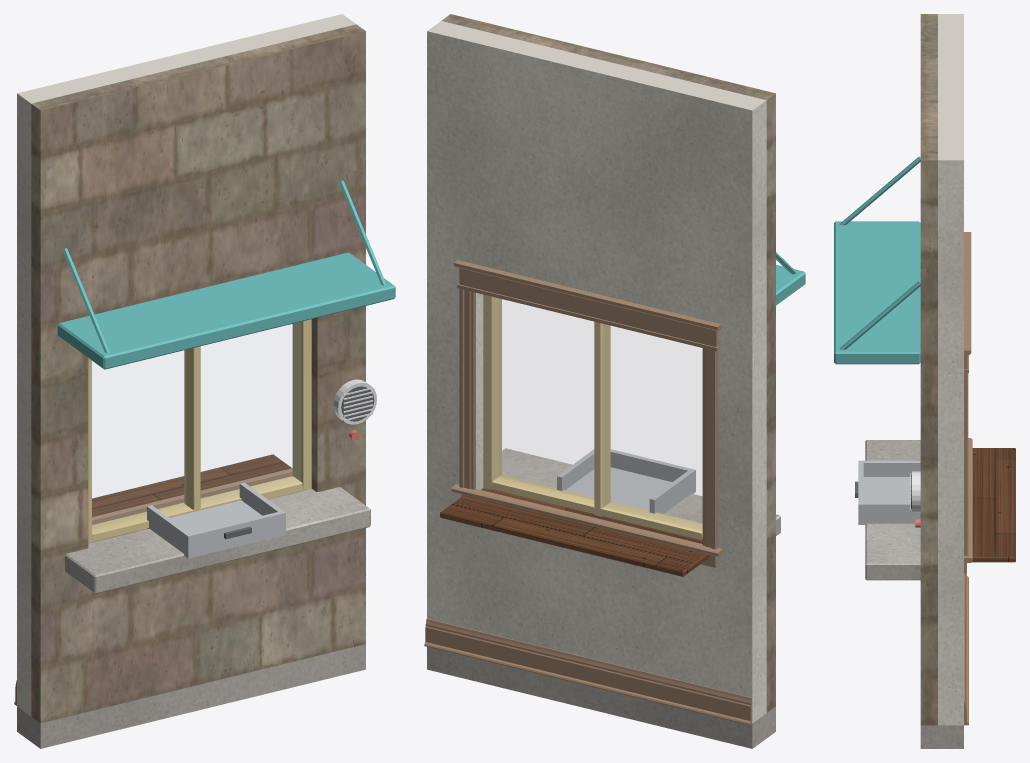
The model's file is s_teller.glb.
The picture shows the model from 3 angles, left to right: view 1: azimuth 30°, elevation 25°; view 2: azimuth 150°, elevation 25°; view 3: azimuth 270°, elevation 25°; orthographic projection. The views are drawn at different scales.
Visible parts, largest first — view 1: s_teller_fstone, s_teller_glass, s_teller_concrete, s_teller_teal, s_teller_plaster, s_teller_gold, s_teller_steel, s_teller_walnut, molduras, s_teller_chrome, s_teller_dark; view 2: s_teller_plaster, s_teller_glass, molduras, s_teller_concrete, s_teller_gold, s_teller_fstone, s_teller_walnut, s_teller_steel, s_teller_teal; view 3: s_teller_plaster, s_teller_teal, s_teller_fstone, s_teller_concrete, s_teller_walnut, s_teller_steel, molduras, s_teller_chrome.
Boxes of the visible parts, box(x1,y1,x2,y2) form: s_teller_fstone: box(31, 24, 365, 723); s_teller_glass: box(92, 322, 300, 527); s_teller_concrete: box(17, 487, 370, 748); s_teller_teal: box(57, 180, 395, 369); s_teller_plaster: box(17, 14, 355, 716); s_teller_gold: box(88, 319, 311, 543); s_teller_steel: box(147, 482, 285, 558); s_teller_walnut: box(92, 454, 291, 516); molduras: box(14, 324, 292, 705); s_teller_chrome: box(333, 379, 376, 424); s_teller_dark: box(224, 386, 374, 539); s_teller_plaster: box(427, 21, 766, 723); s_teller_glass: box(499, 299, 701, 530); molduras: box(424, 260, 752, 725); s_teller_concrete: box(427, 448, 780, 748); s_teller_gold: box(483, 294, 702, 540); s_teller_fstone: box(441, 14, 775, 712); s_teller_walnut: box(440, 488, 710, 576); s_teller_steel: box(557, 449, 695, 513); s_teller_teal: box(776, 252, 805, 305); s_teller_plaster: box(938, 14, 963, 725); s_teller_teal: box(834, 156, 920, 364); s_teller_fstone: box(920, 14, 937, 725); s_teller_concrete: box(865, 440, 963, 748); s_teller_walnut: box(972, 448, 1015, 562); s_teller_steel: box(858, 460, 920, 524); molduras: box(964, 232, 972, 725); s_teller_chrome: box(910, 471, 920, 512).
Size of the model in its own units: 2.04 by 3.75 by 1.05.
Materials: 13 (4 with a texture image).
